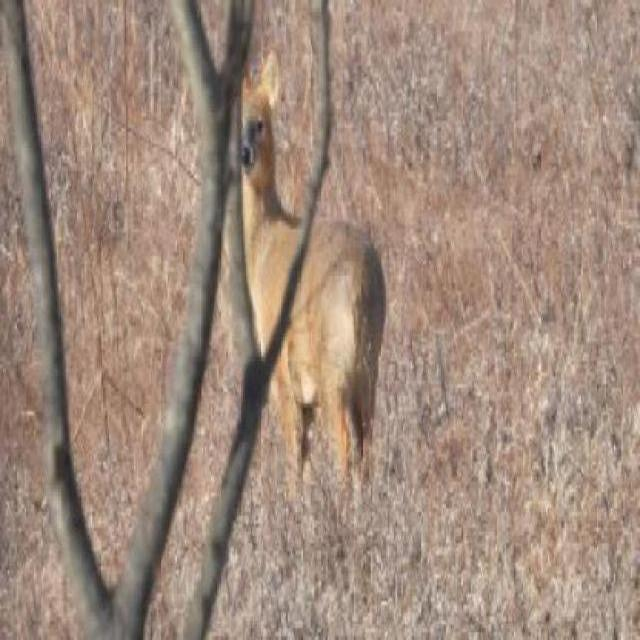deer: (228, 43, 400, 514)
